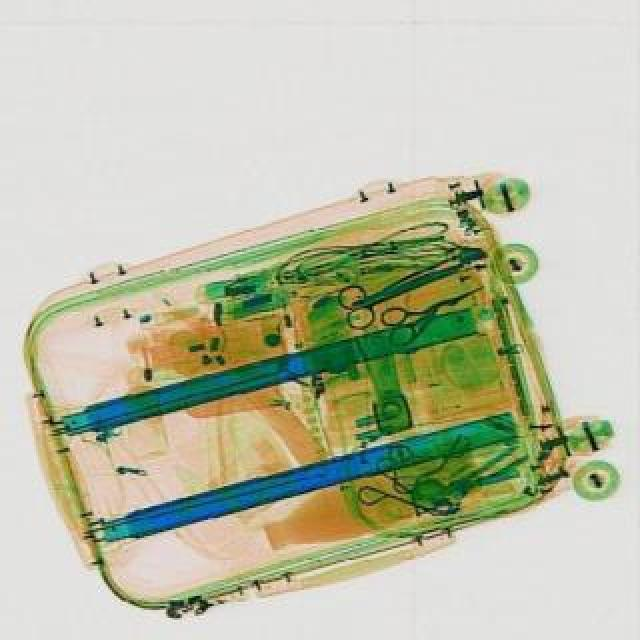pliers: (330, 248, 464, 332), (372, 276, 492, 348)
